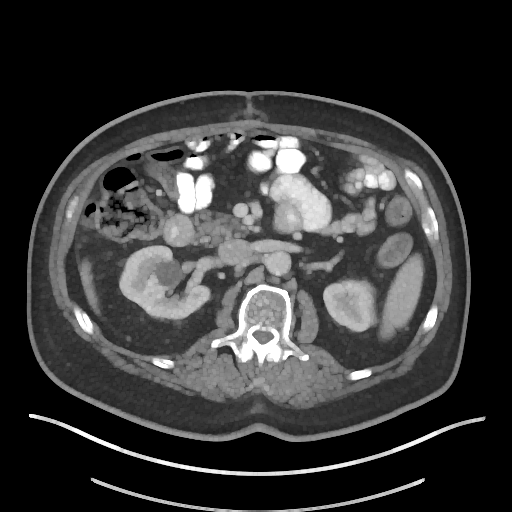Lesion: (149, 257, 184, 290)
